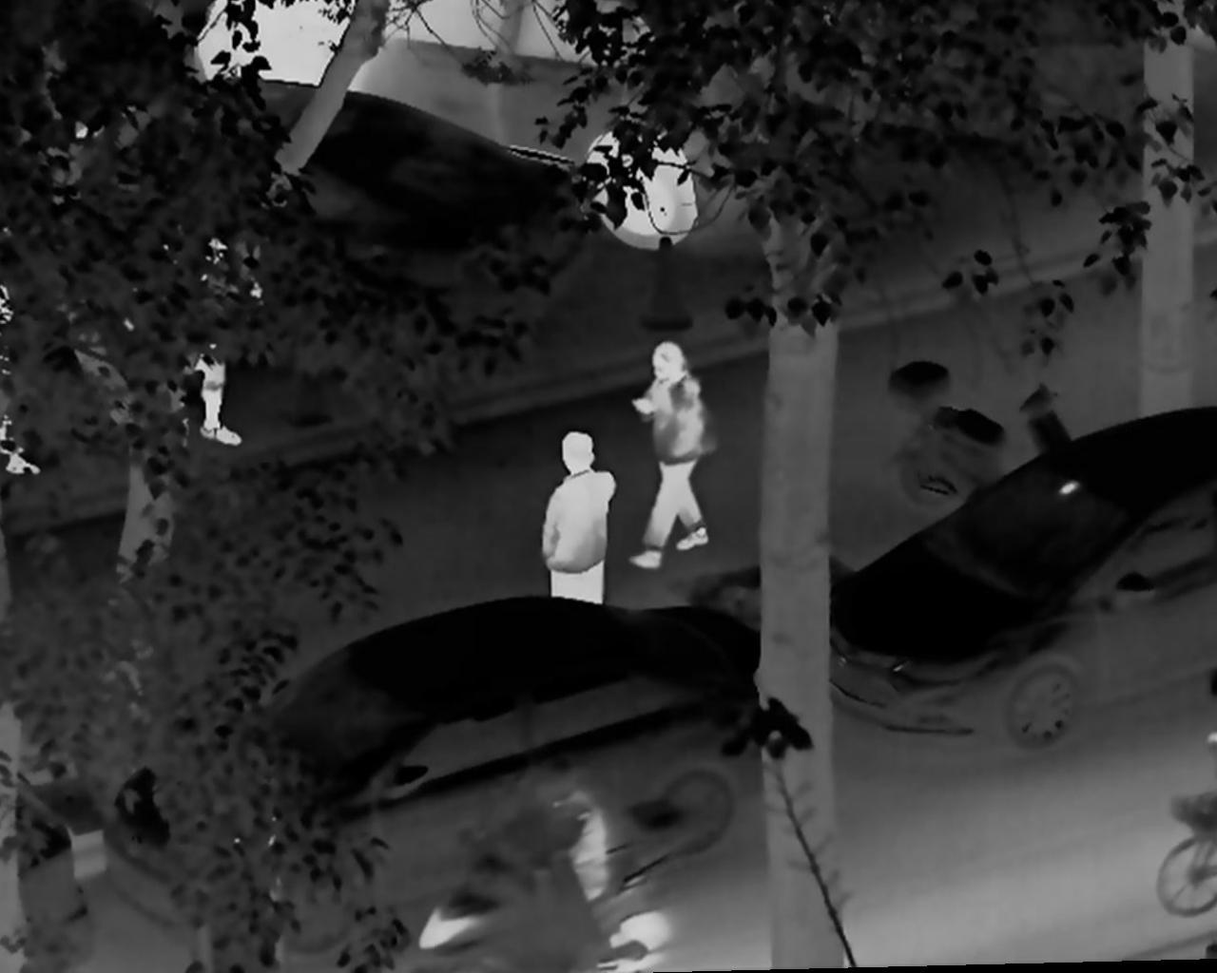person: (622, 334, 721, 573), (172, 218, 259, 446), (531, 426, 622, 613), (528, 764, 615, 916)
